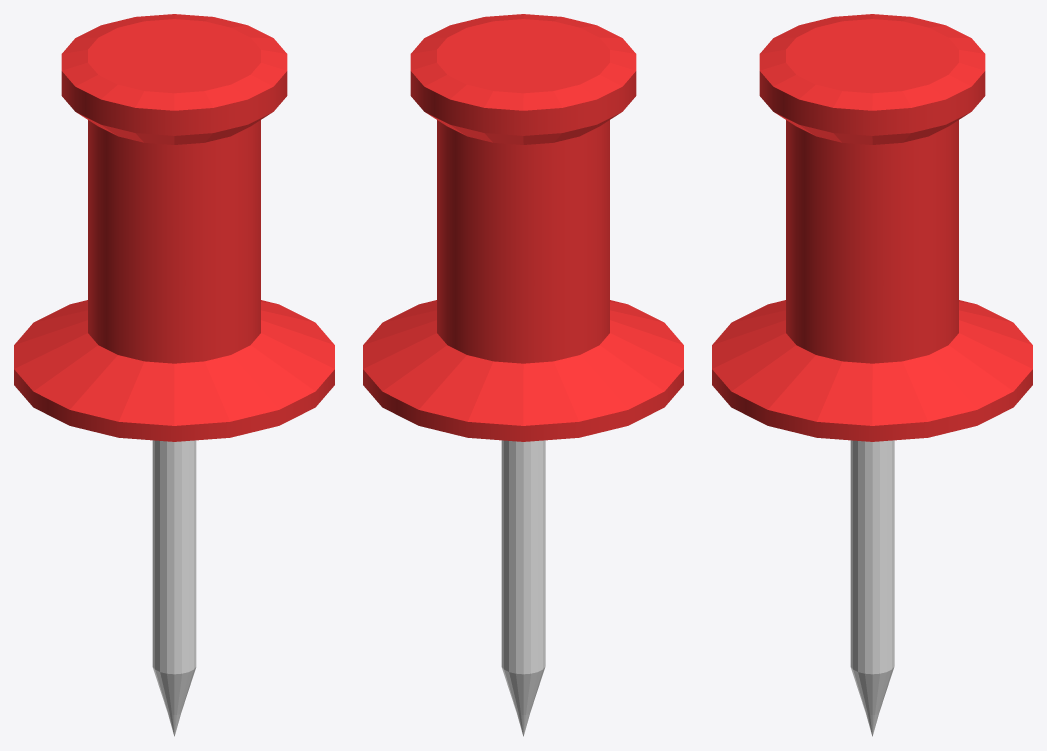
Rendered from no_chincheta.fbx.
3 renders of one model, left to right at view 1: azimuth 30°, elevation 25°; view 2: azimuth 150°, elevation 25°; view 3: azimuth 270°, elevation 25°, orthographic.
Parts seen in each view (by area): view 1: Chincheta; view 2: Chincheta; view 3: Chincheta.
Part boxes in pixels (left/top/right/bottom): Chincheta: left=14, top=14, right=334, bottom=736; Chincheta: left=363, top=14, right=683, bottom=736; Chincheta: left=712, top=14, right=1032, bottom=736.
Size of the model in its own units: 1.42 by 1.4 by 3.27.
